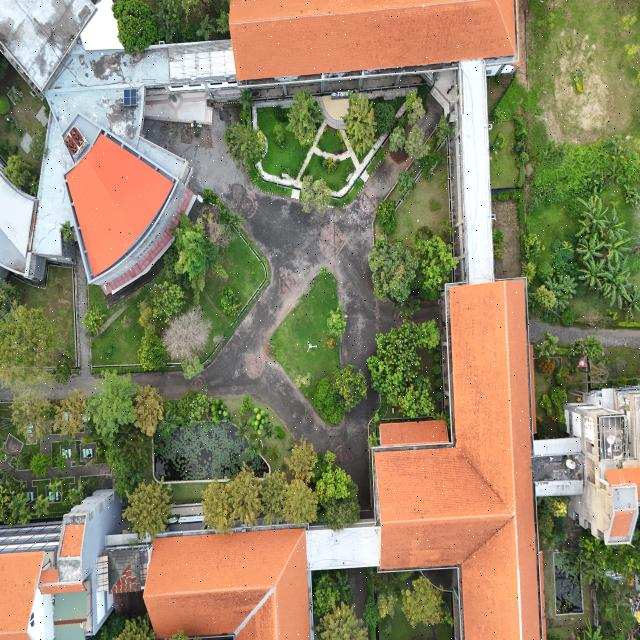Tree: (112, 0, 154, 58), (288, 92, 322, 146), (335, 366, 369, 414), (298, 174, 332, 217), (136, 331, 168, 372), (377, 196, 398, 234), (220, 285, 242, 318), (326, 306, 348, 336), (29, 451, 52, 479), (396, 169, 416, 197), (364, 596, 380, 628), (272, 120, 289, 148), (387, 590, 399, 620), (376, 591, 388, 619), (0, 96, 10, 116)
